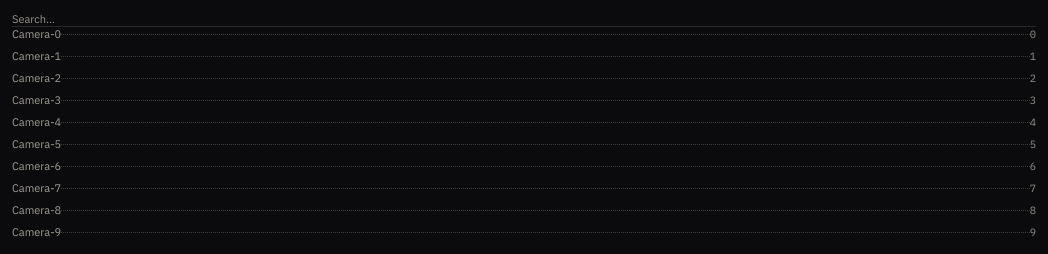
Test case: FacetList › substring search filters items
Type "ra-3" into the field with placeholder "Search…". click: (524, 20)
box: [12,12,1036,27]
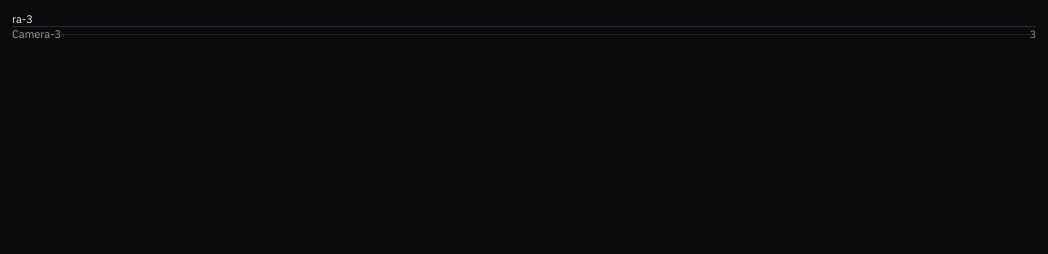
expect the text "Camera-3" is shown: met, box [12,27,61,41]
expect the checkbox "Camera-2" is gone: met
